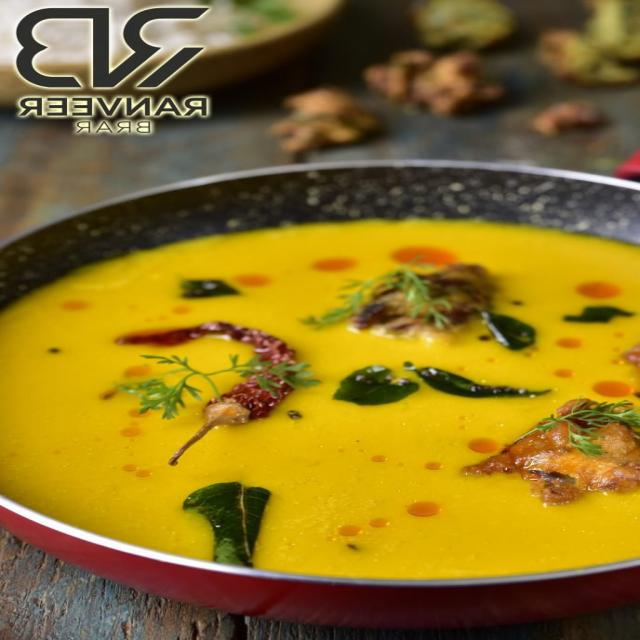Kadhi Pakora: (0, 215, 640, 582)
